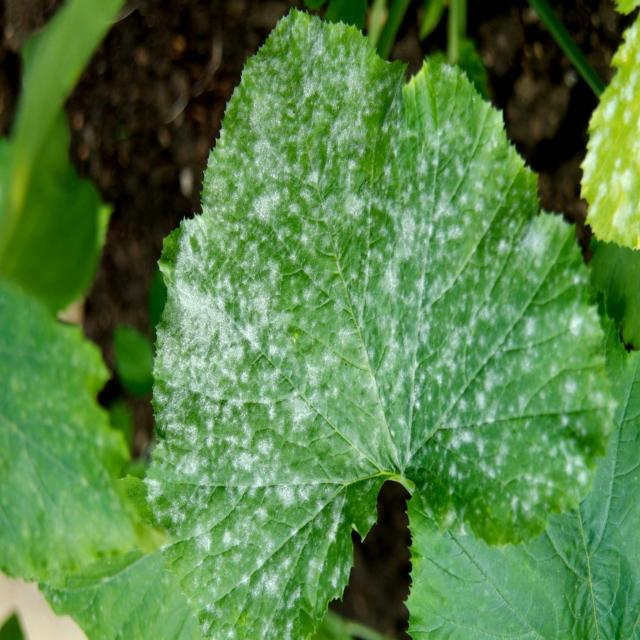Powdery Mildew: (142, 7, 618, 638)
